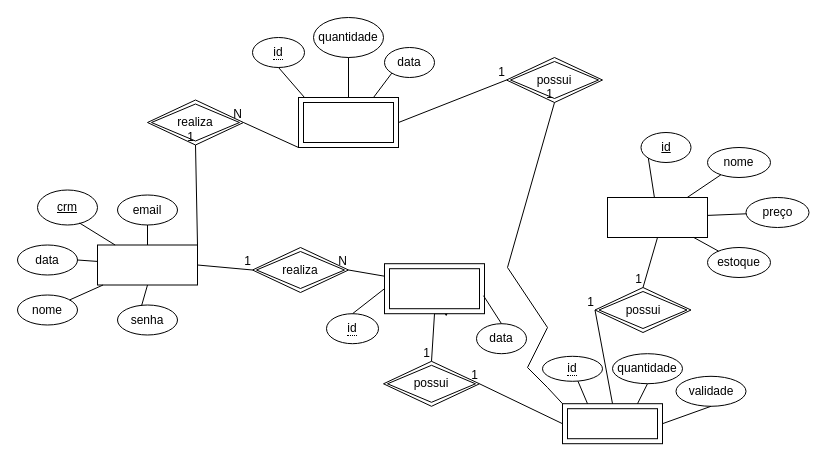
The diagram is 827 pixels wide and 462 high, and some of its shapes have lost their labels. Here are the shapes that lost their labels. From the top down, the box of each, then its label:
(298, 96, 398, 148): Compra feita por Paciente
(606, 196, 708, 238): Remédio
(96, 244, 198, 285): Médico
(384, 263, 484, 314): Compra para Clínica
(562, 403, 662, 444): Lote de Compra
